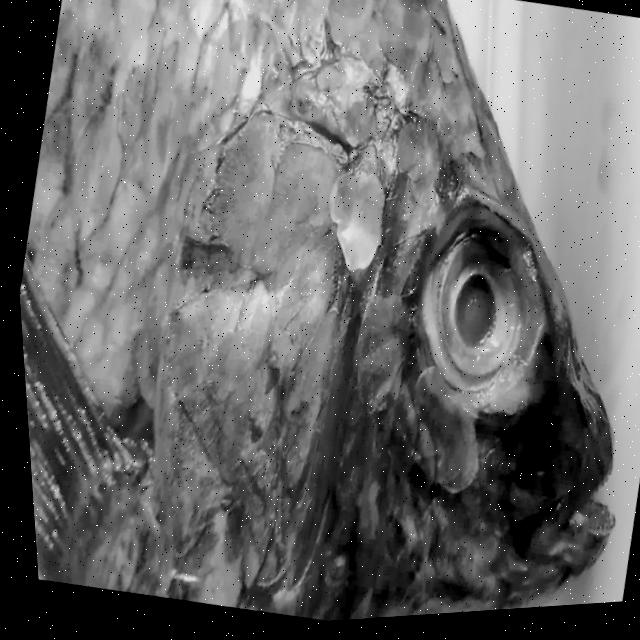Non-Fresh: (0, 0, 482, 634), (384, 190, 570, 432)
